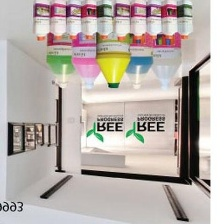cleaning_solution: (142, 21, 185, 92), (68, 19, 109, 92), (93, 18, 132, 89), (44, 20, 82, 88), (119, 20, 155, 91), (29, 0, 51, 42), (174, 0, 195, 43), (126, 0, 148, 41), (77, 0, 99, 41), (46, 0, 68, 41), (110, 1, 131, 42), (63, 0, 82, 42), (95, 0, 114, 41), (160, 0, 178, 41), (144, 0, 162, 40)
